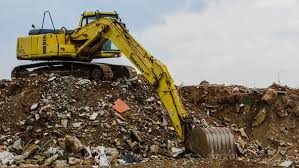excavator: (15, 10, 235, 161)
